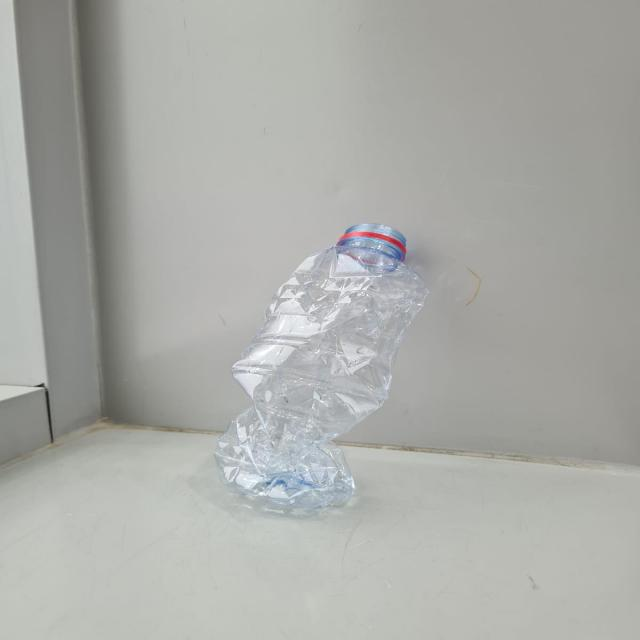bottle: (214, 209, 418, 523)
